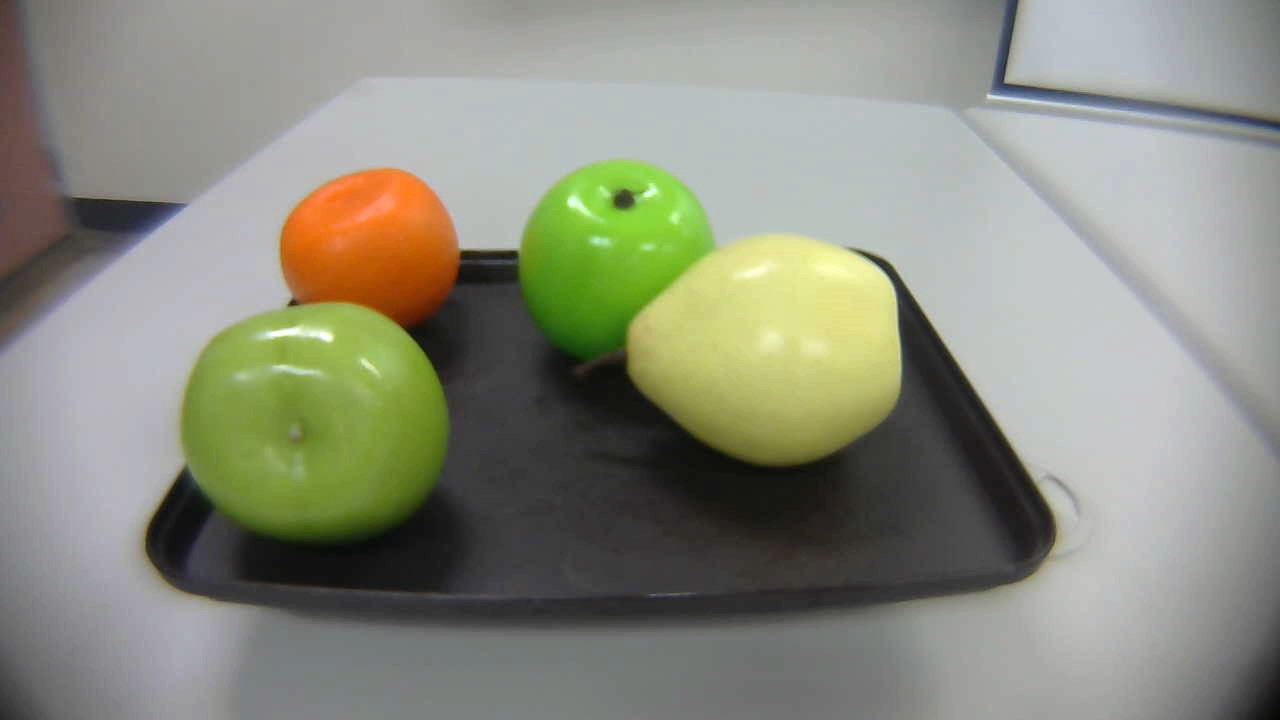green apple: (500, 148, 722, 353)
green pear: (157, 299, 465, 556)
orange: (278, 161, 477, 353)
western pear: (570, 229, 938, 481)
